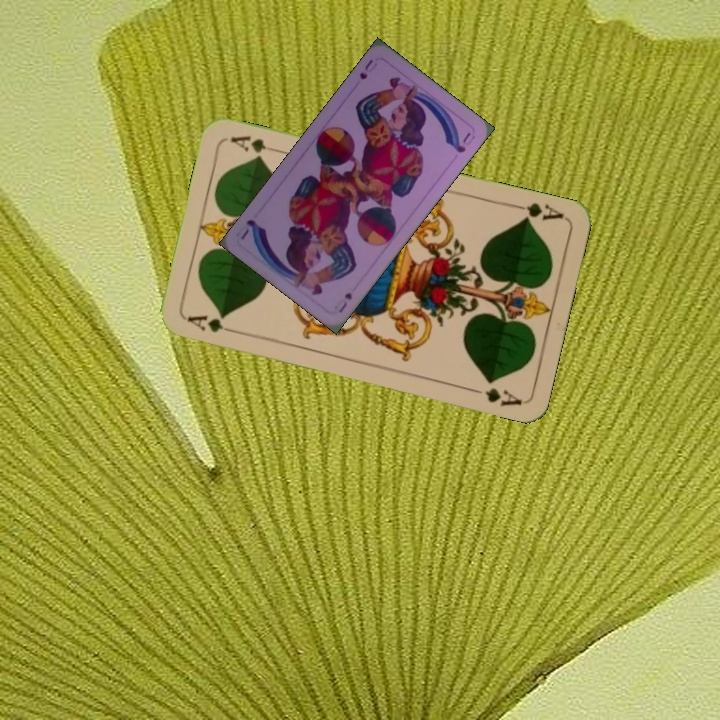GA: (508, 198, 566, 224), (183, 310, 241, 336)
SU: (355, 55, 380, 82), (335, 288, 355, 315)
